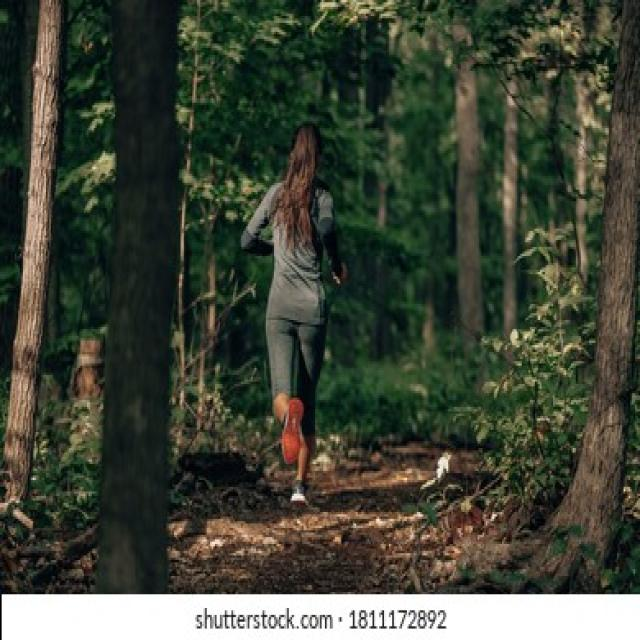running: (237, 117, 349, 510)
